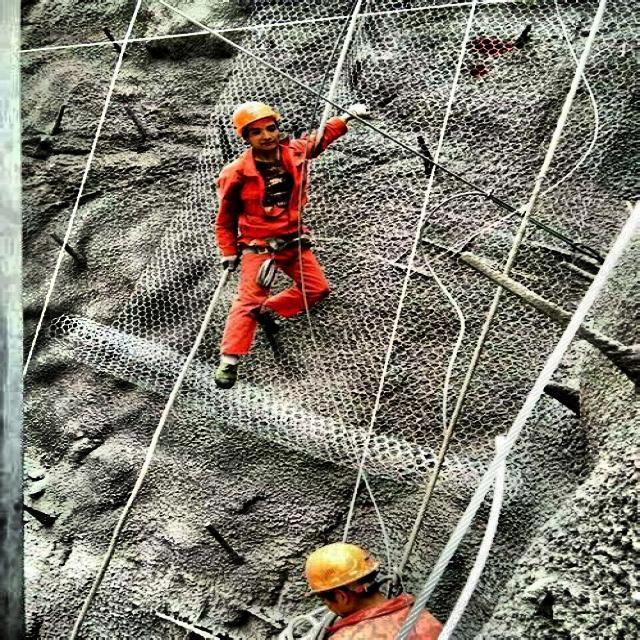helmet: (299, 538, 386, 613), (228, 99, 284, 150)
